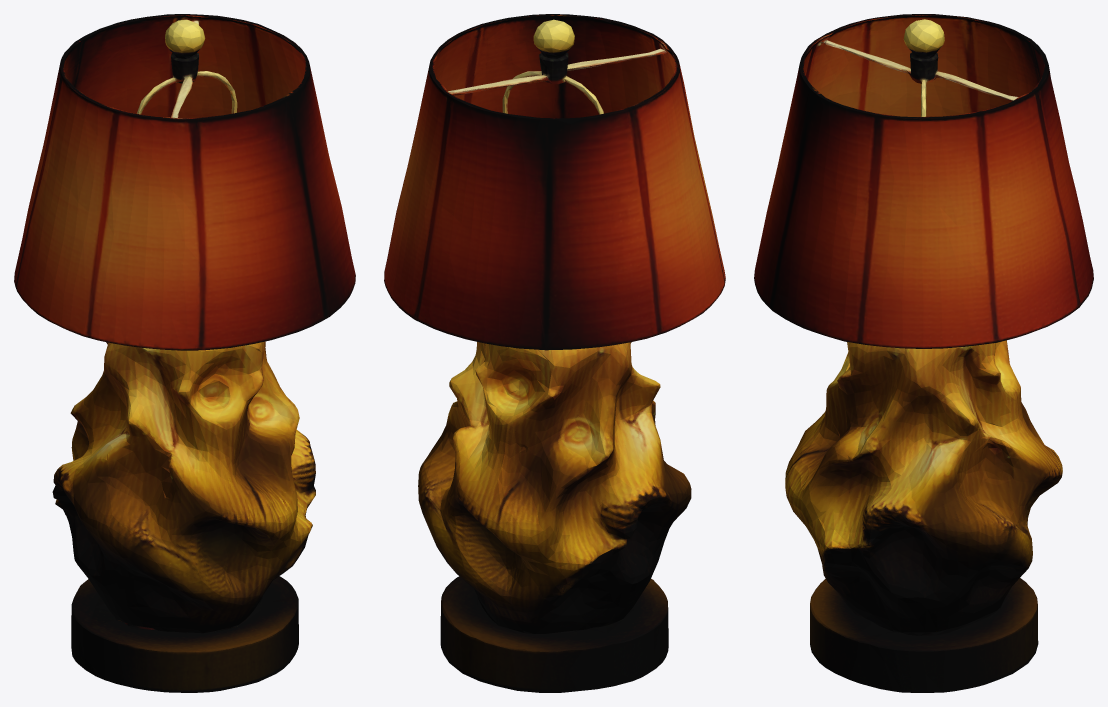
File: wooden-table-lamp-rustic.jpeg.glb
3 views of the same model, side by side, from view 1: azimuth 30°, elevation 25°; view 2: azimuth 150°, elevation 25°; view 3: azimuth 270°, elevation 25° (orthographic).
Visible parts, largest first — view 1: world; view 2: world; view 3: world.
Boxes of the visible parts, <box> form: world: <box>14,14,355,692</box>; world: <box>384,14,725,692</box>; world: <box>754,14,1093,692</box>.
Bounding box in the file's own units: 0.4954 × 1 × 0.4952.
1 material, 1 textured.
